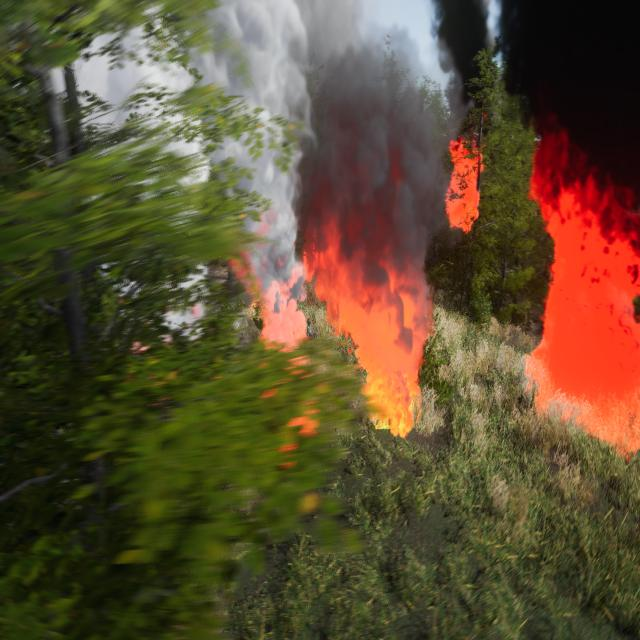Human: (303, 305, 318, 351)
